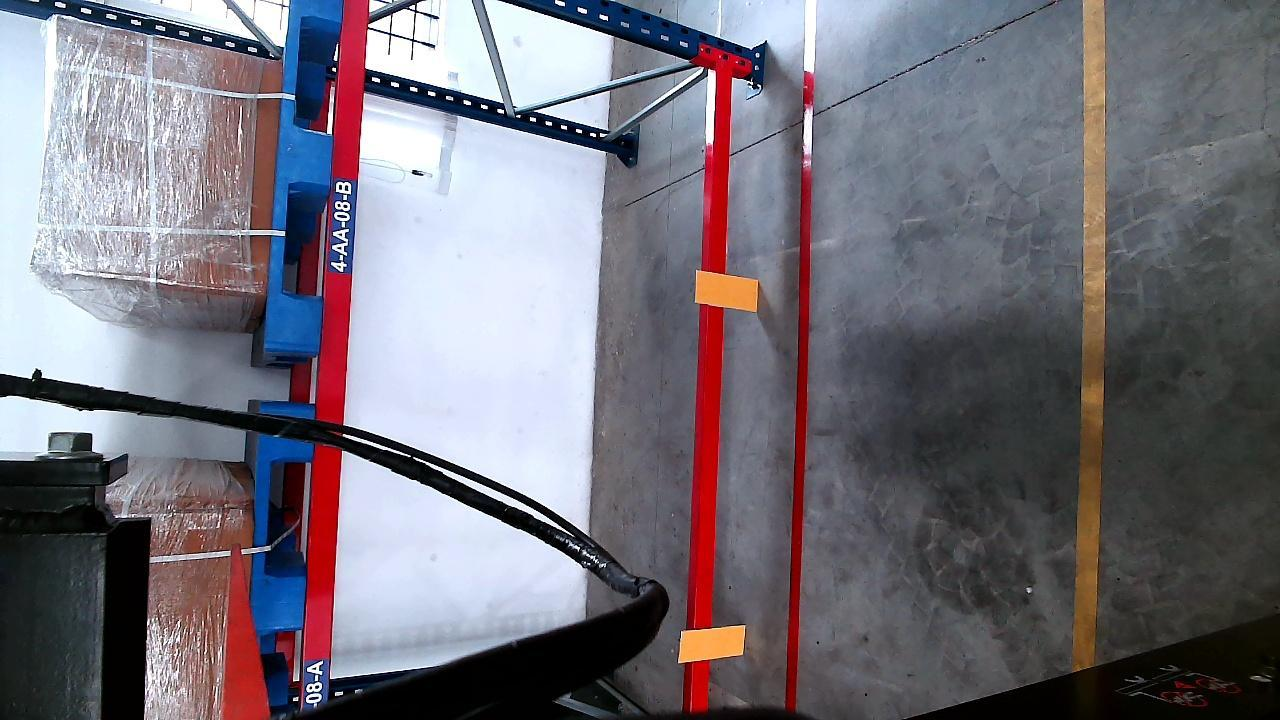red_line: (784, 0, 814, 712)
